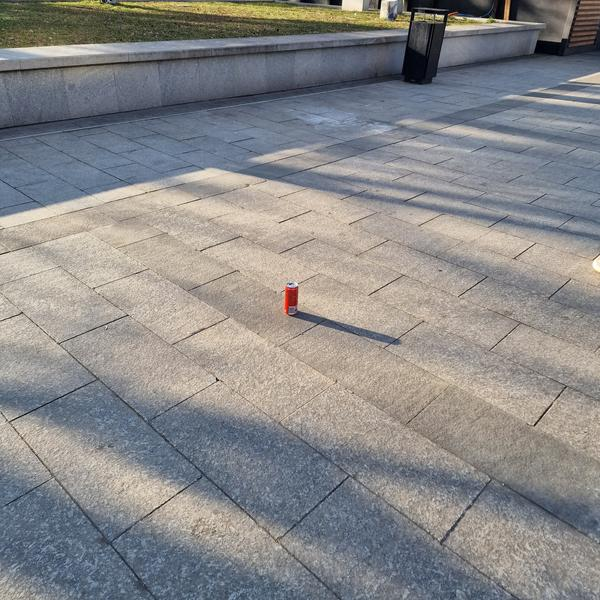can: (284, 281, 298, 316)
